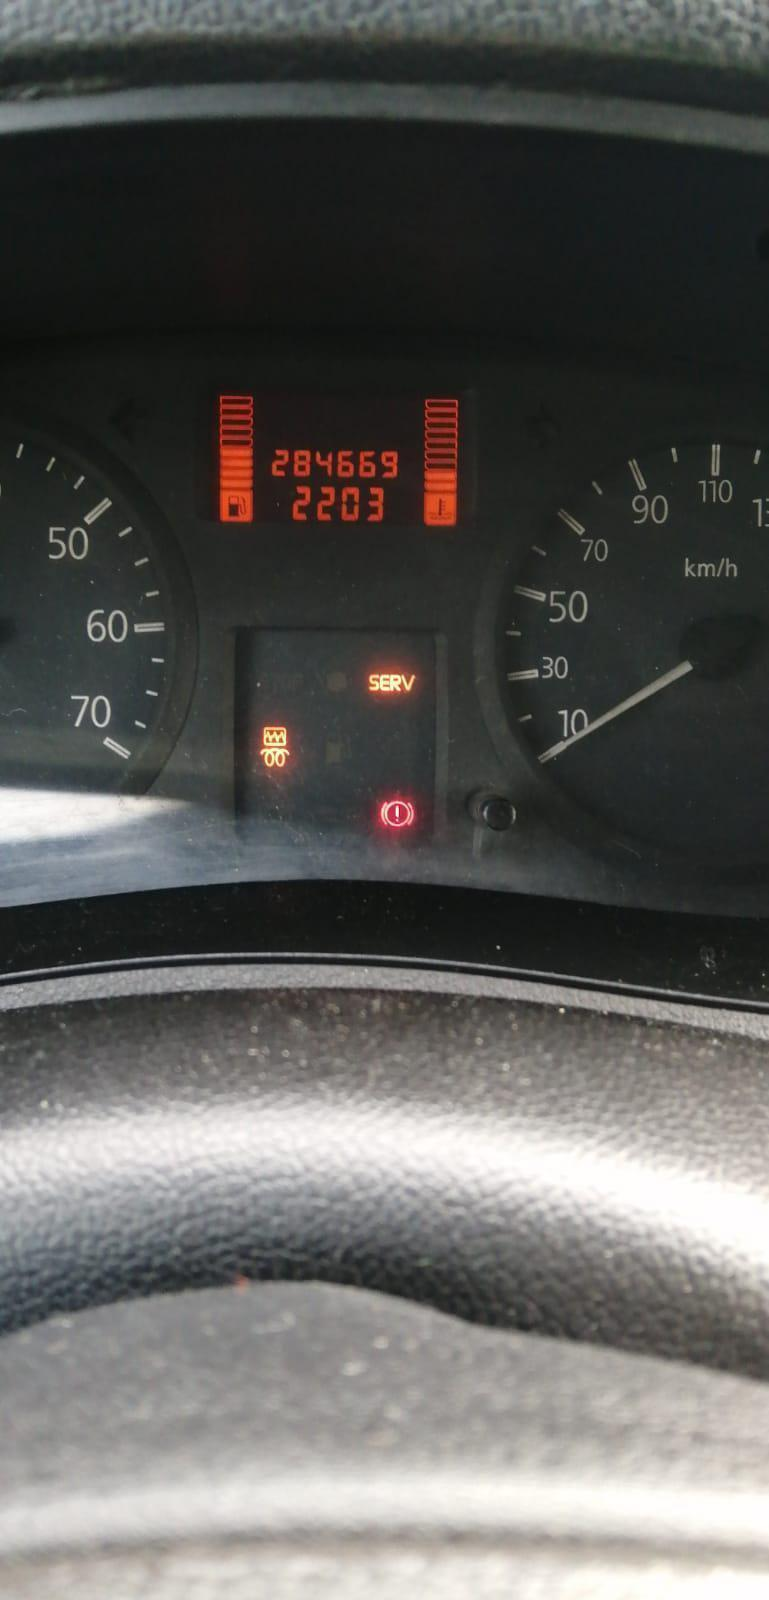0: (340, 485, 360, 521)
2: (291, 485, 311, 521), (315, 485, 336, 521), (271, 448, 289, 477)
3: (366, 486, 385, 522)
4: (314, 449, 334, 478)
6: (336, 449, 355, 478), (358, 450, 376, 479)
8: (292, 449, 310, 477)
9: (380, 450, 399, 478)
odometer: (195, 379, 486, 533)
